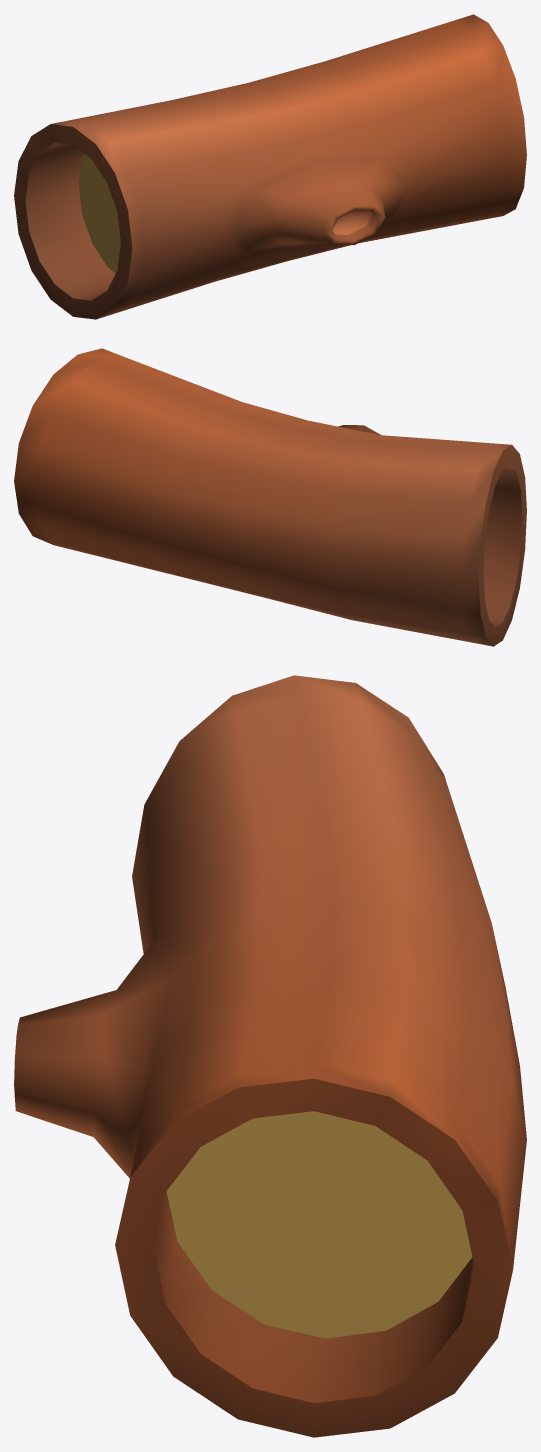
File: Trunk 1.fbx
3 views of the same model, one above another, from view 1: azimuth 30°, elevation 25°; view 2: azimuth 150°, elevation 25°; view 3: azimuth 270°, elevation 25° (orthographic). The views are drawn at different scales.
Parts seen in each view (by area): view 1: trunk.001; view 2: trunk.001; view 3: trunk.001.
Part boxes in pixels (bbox=[...]): trunk.001: bbox=[14, 14, 526, 319]; trunk.001: bbox=[14, 348, 526, 646]; trunk.001: bbox=[14, 675, 526, 1437].
Size of the model in its own units: 180 by 72.39 by 91.17.
